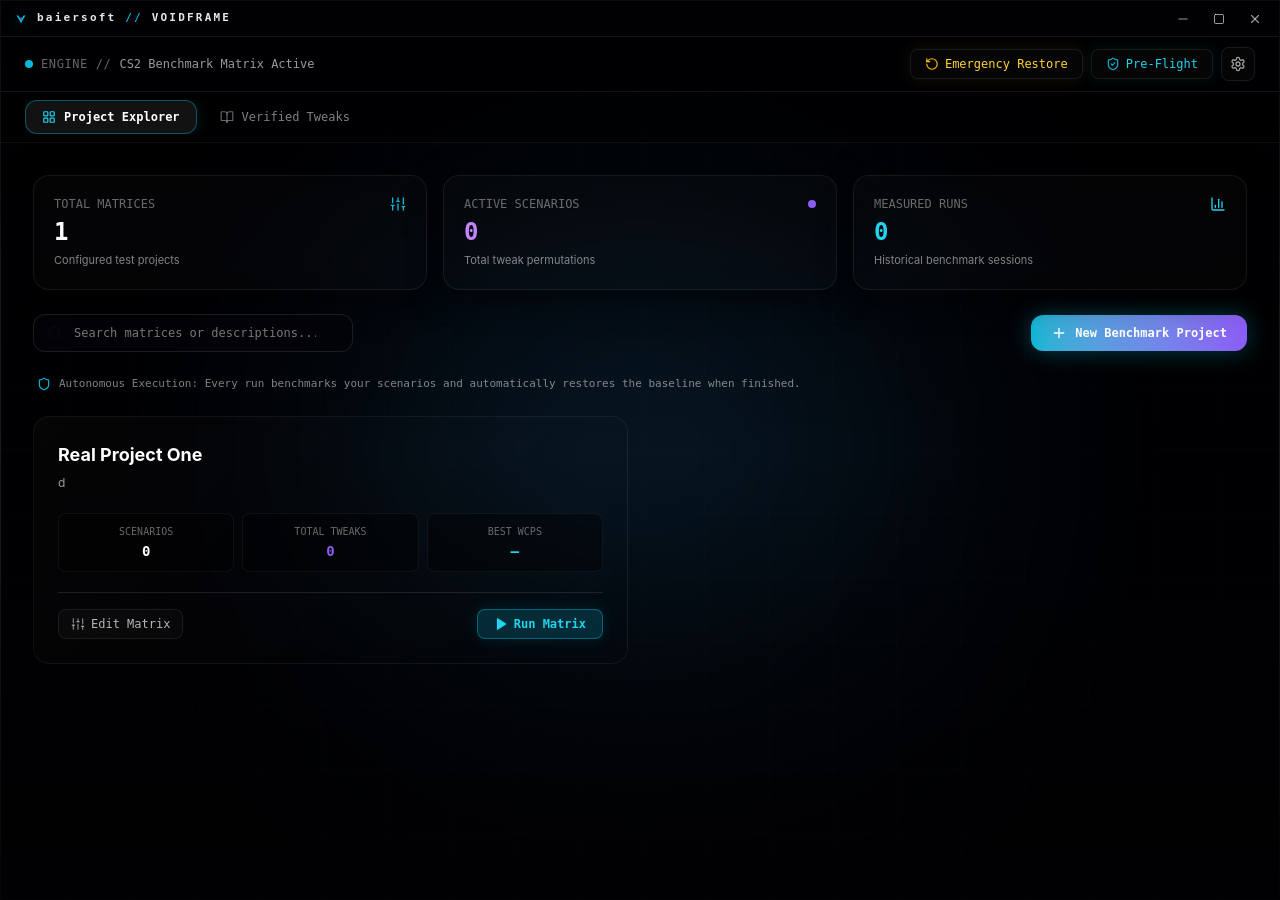
Test case: App reboot-core wiring (M3) › shows a Cancel shutdown button on the Results tab once RunComplete arrives and the run's progress had shutdown_when_complete set
Expected: the heading "Real Project One" is shown, [58,441,202,469]
Click the button "Run Matrix" at (540, 624), box [477,608,603,638]
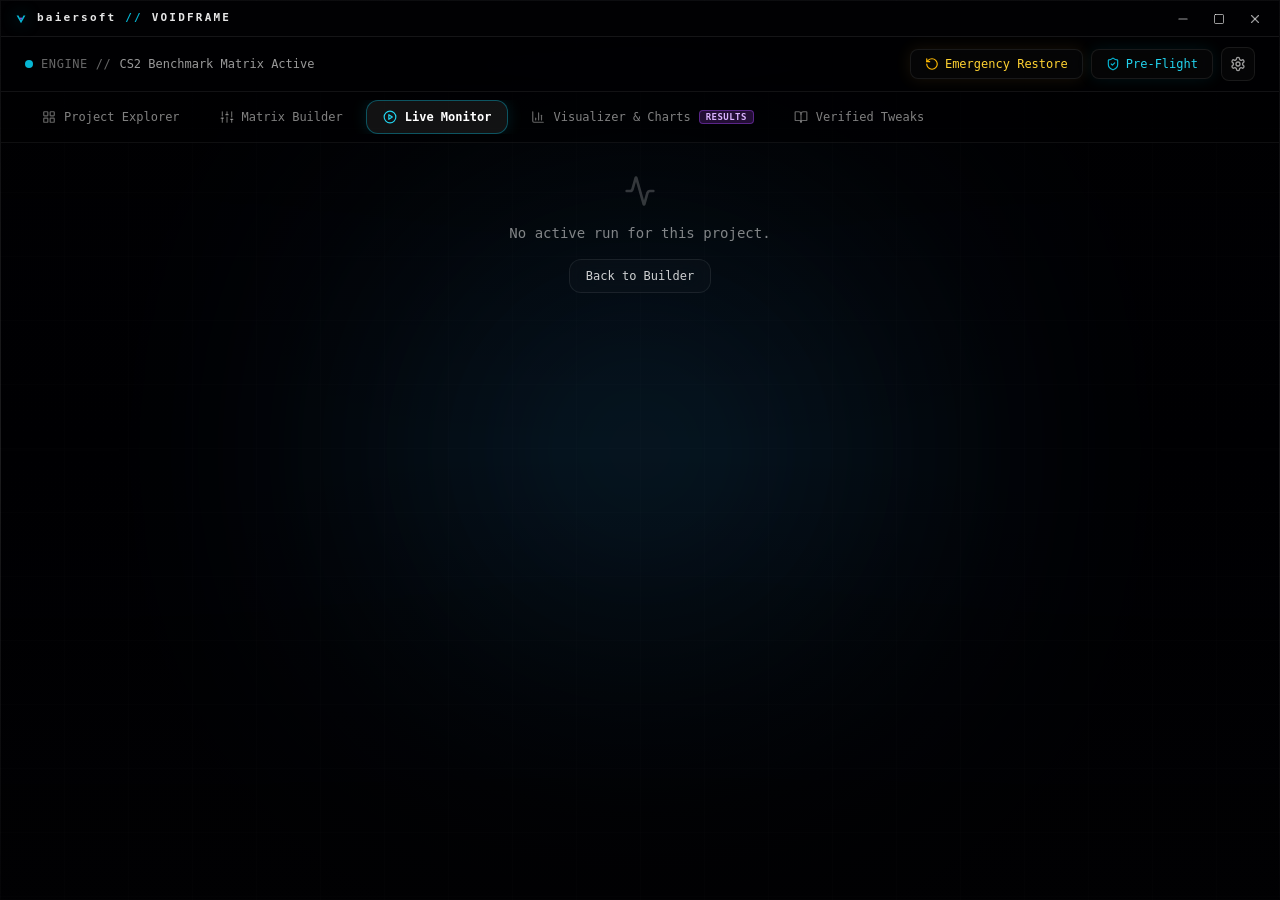
Now the button "Visualizer & Charts RESULTS" is shown
Click the button "Visualizer & Charts RESULTS" at (643, 117), box [514,100,771,134]
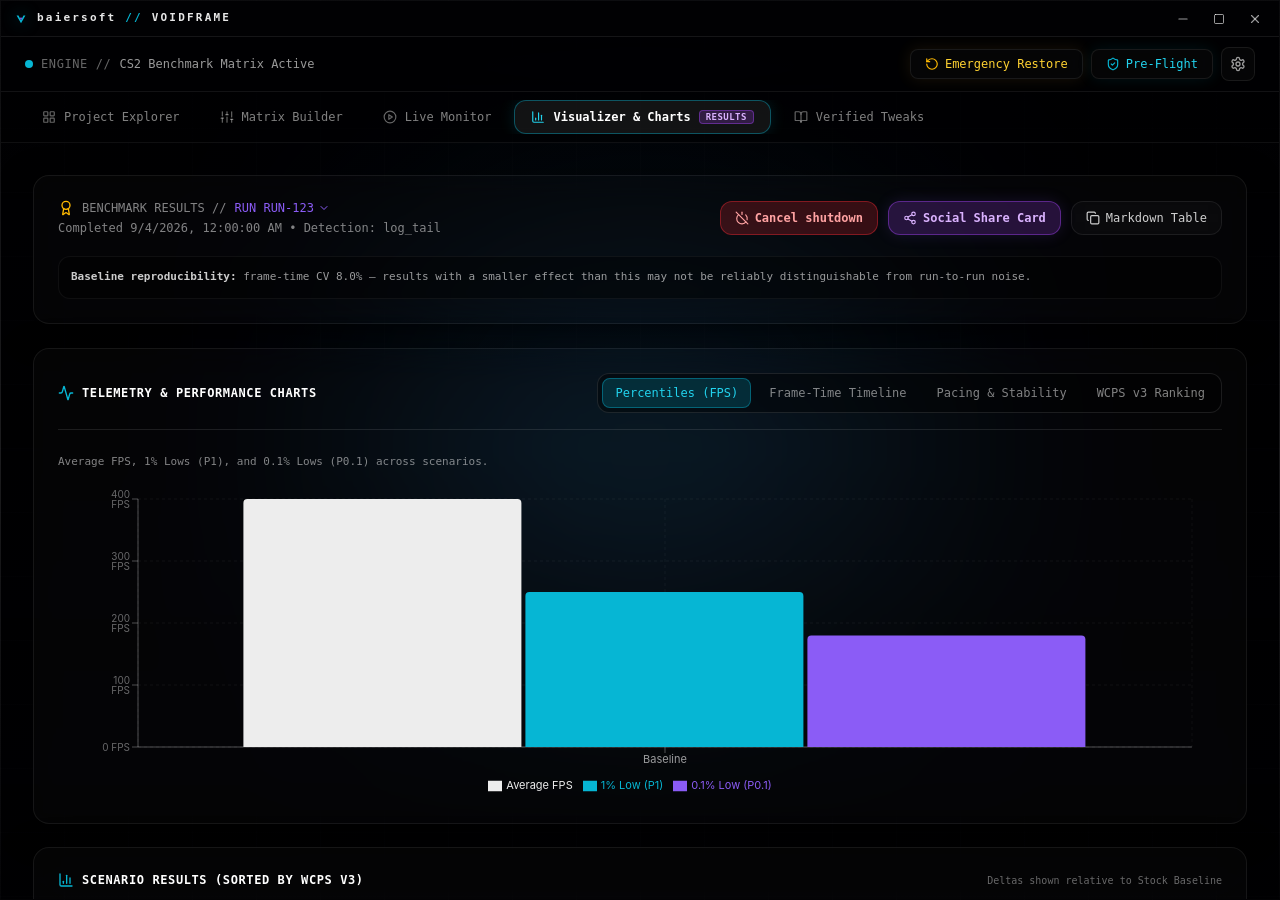
Now the button "Cancel shutdown" is shown, box [720,201,878,235]
